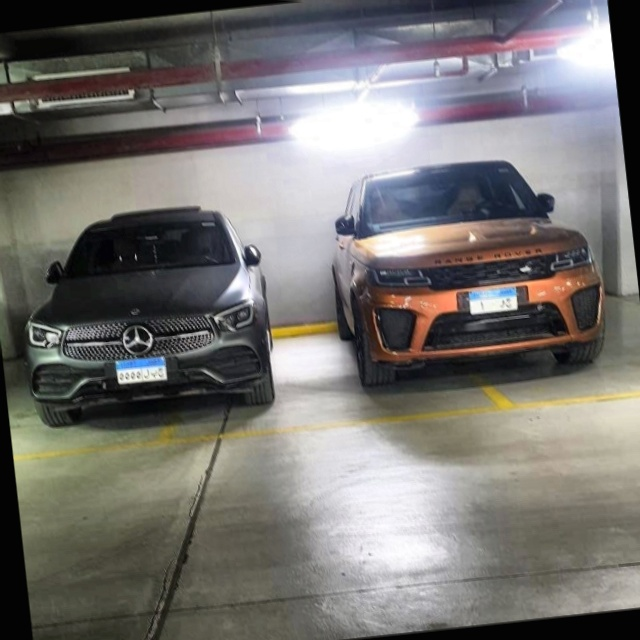License Plate: (466, 283, 520, 316), (114, 353, 169, 385)
